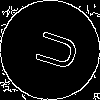U: (25, 25, 80, 74)
